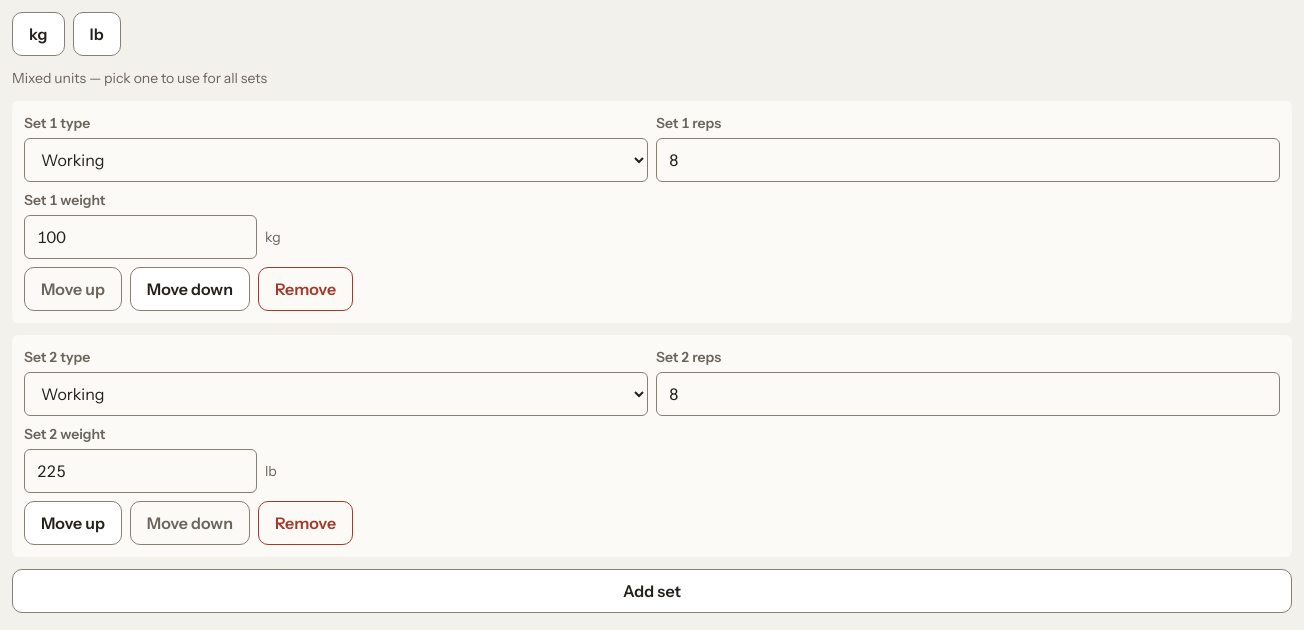
Test: 10.2 AC13 — plan rows › mixed units: neither segment pressed, a line says so, each row shows its own unit as text (D3)
Expected: the text "Mixed units — pick one to use for all sets" is shown, [12,69,267,87]
Expected: the text "kg" is shown, [265,228,281,246]
Click the button "kg".
click(38, 34)  # box [12,12,64,56]
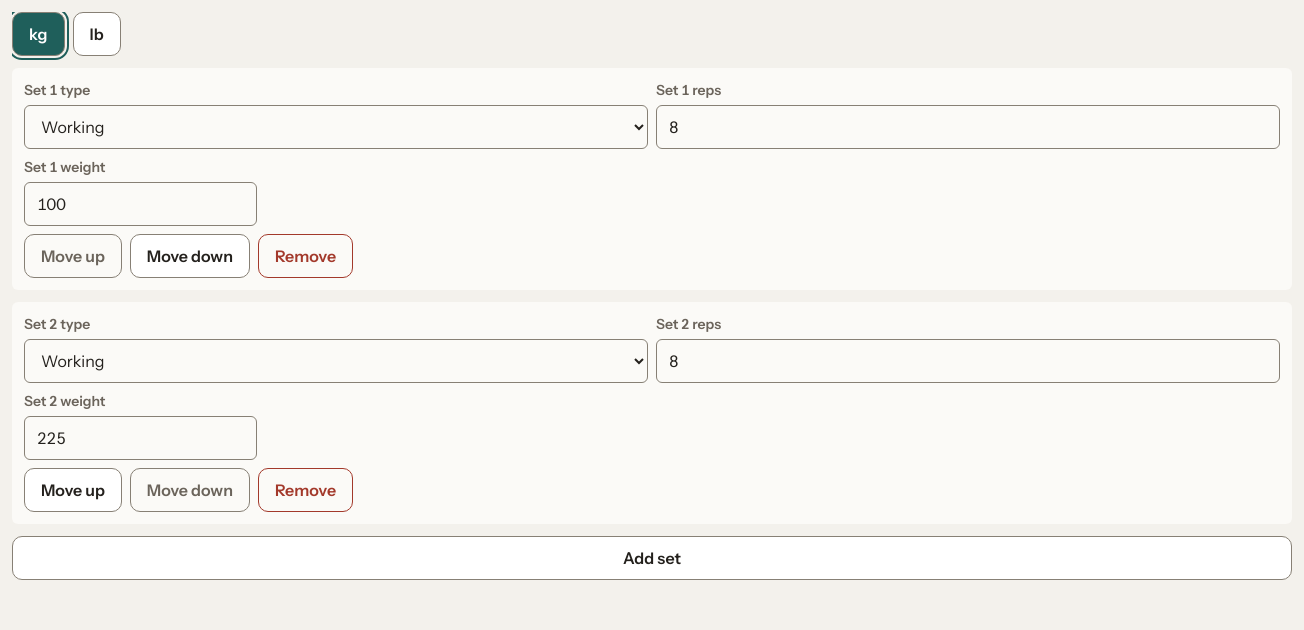
Expected: the text "Mixed units — pick one to use for all sets" is gone
